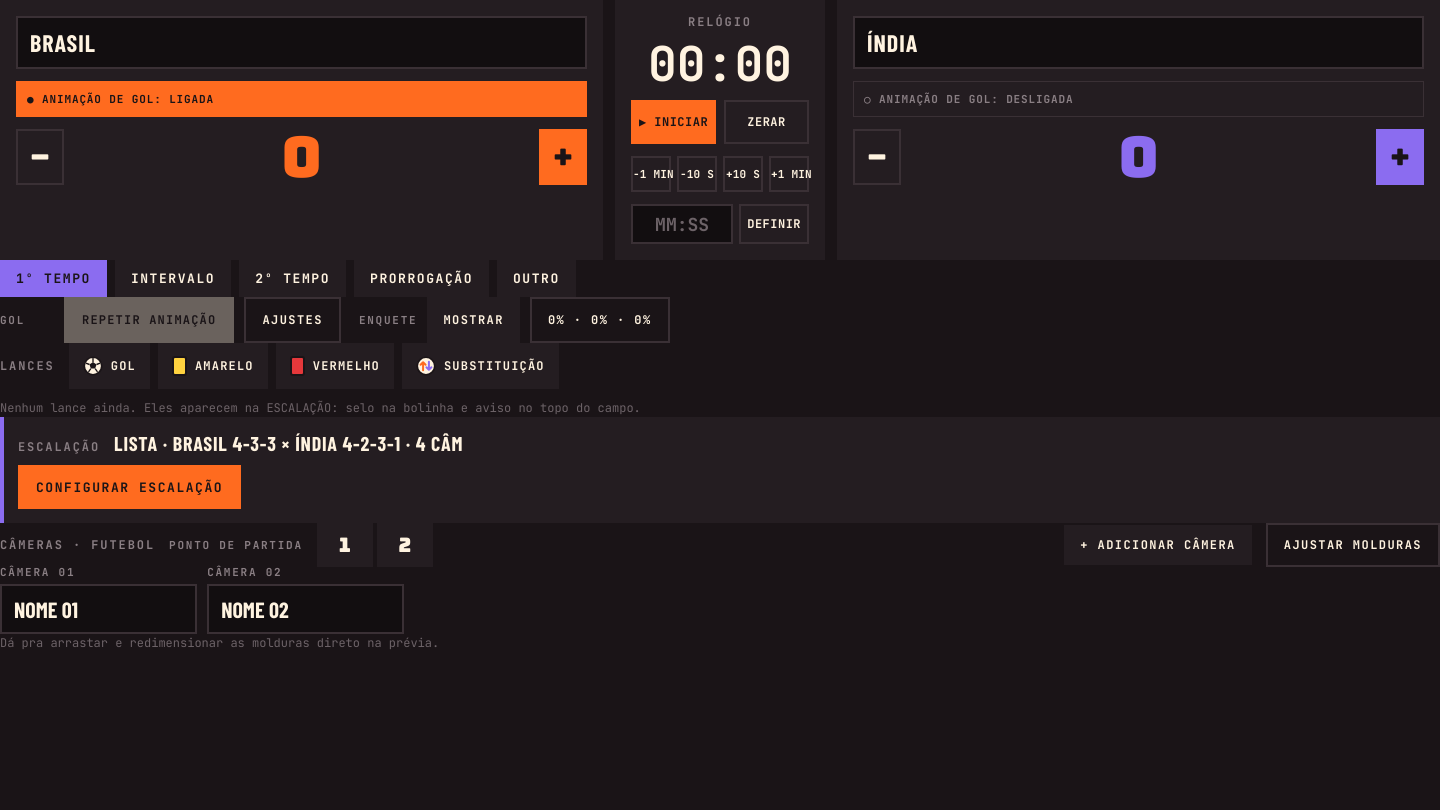
Test: FUTEBOL com a escalação junto › resumo à vista; CONFIGURAR ESCALAÇÃO abre o modal com os campos
Expected: the text "LISTA · BRASIL 4-3-3 × ÍNDIA 4-2-3-1 · 4 CÂM" is shown, 114,431 -> 463,455
Click the button "CONFIGURAR ESCALAÇÃO": click(130, 487) 18,465 -> 241,509
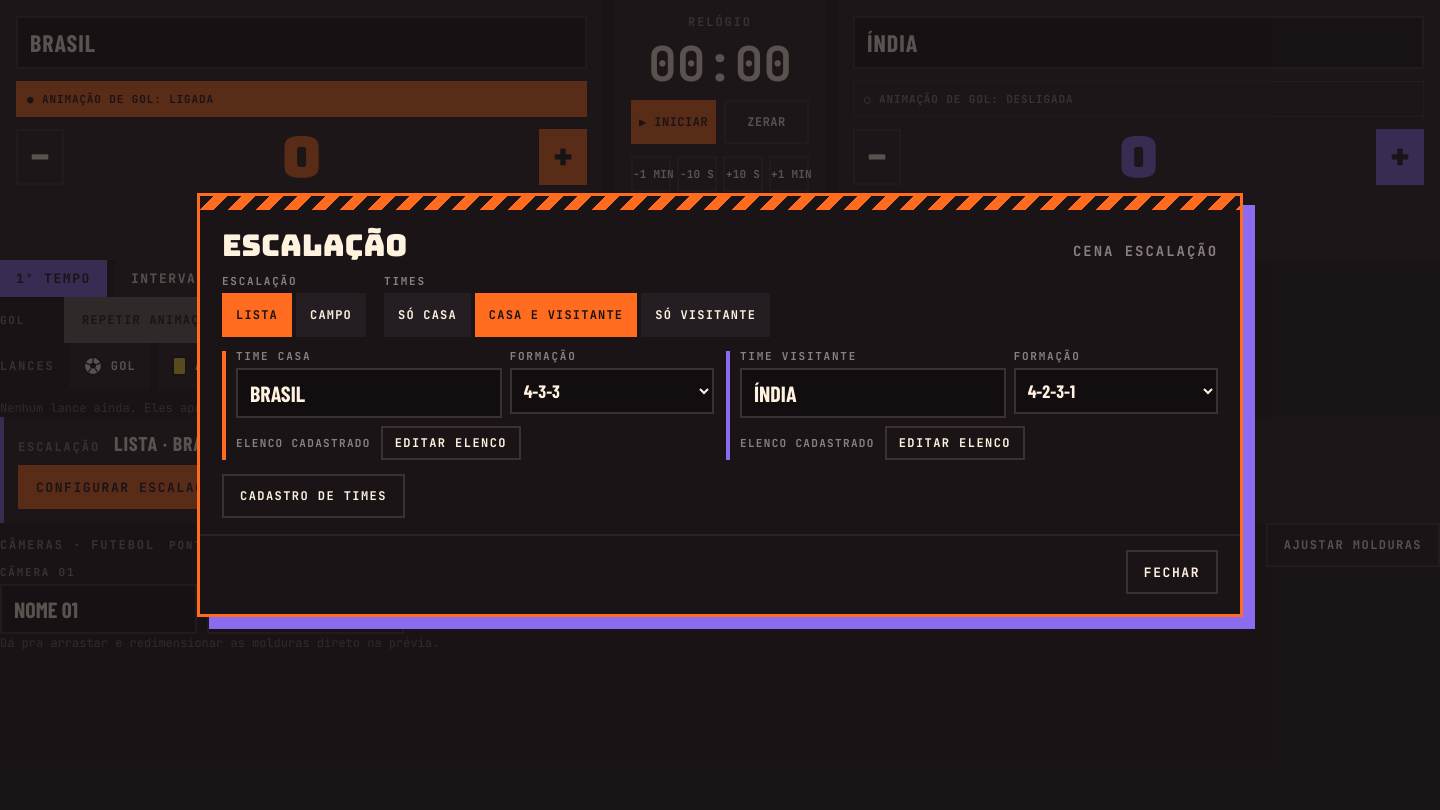
Expected: the dropdown named "FORMAÇÃO CASA" is shown, 510,368 -> 714,414
Click the button "FECHAR": click(1172, 572) 1126,550 -> 1218,594
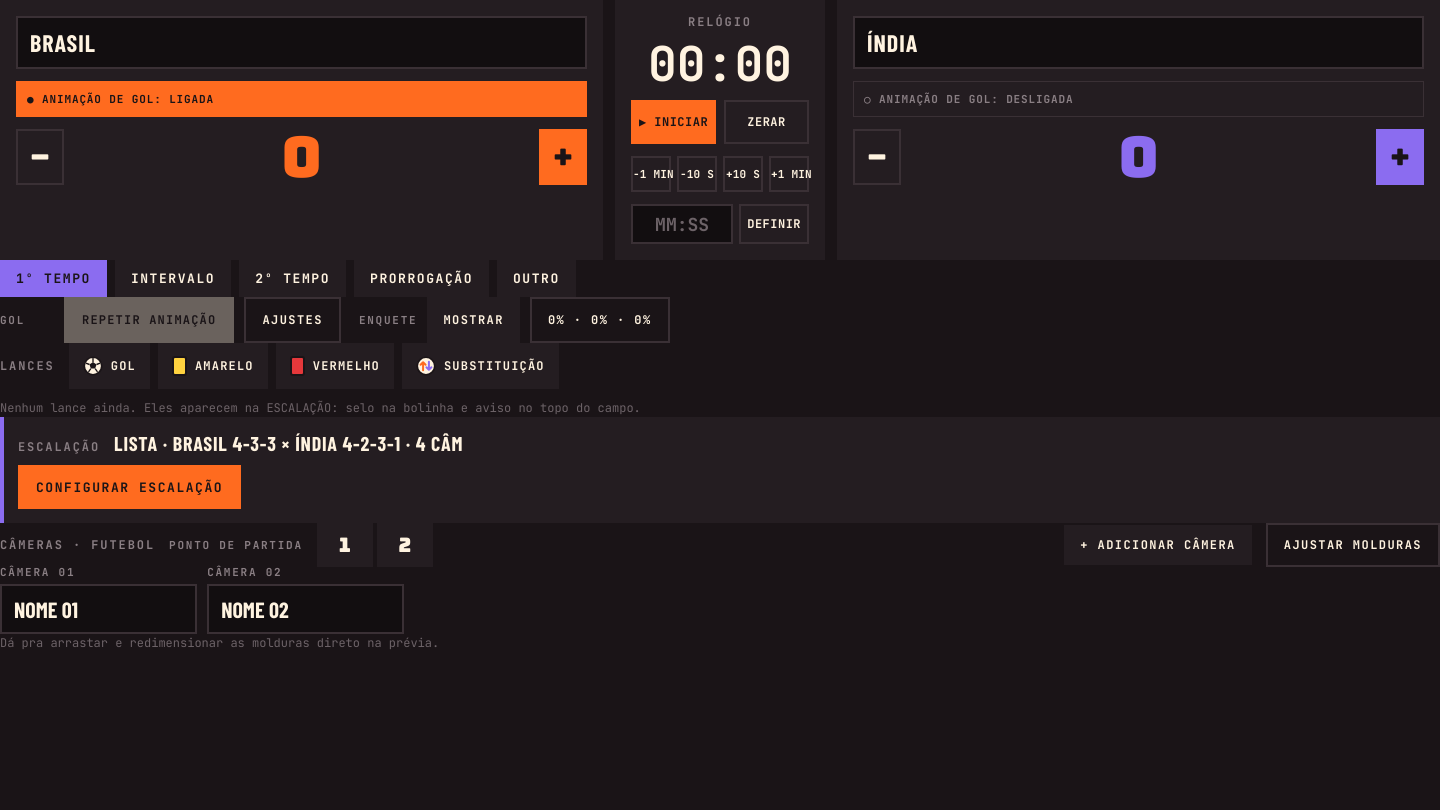
Expected: the dialog is gone
